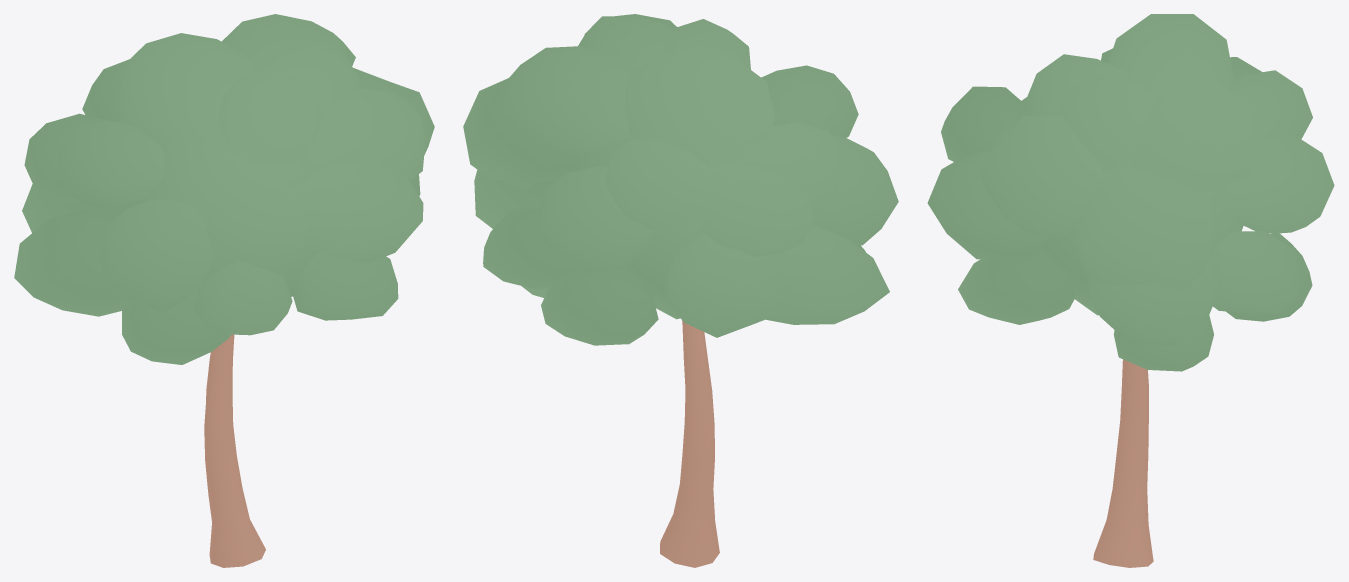
Rendered from Blender_Tanoak_2.glb.
3 renders of one model, left to right at view 1: azimuth 30°, elevation 25°; view 2: azimuth 150°, elevation 25°; view 3: azimuth 270°, elevation 25°, orthographic. The views are drawn at different scales.
Visible parts, largest first — view 1: Blender_Tanoak_2; view 2: Blender_Tanoak_2; view 3: Blender_Tanoak_2.
Part boxes in pixels (x1,y1,x2,y2): Blender_Tanoak_2: (14,14,434,567); Blender_Tanoak_2: (463,14,898,567); Blender_Tanoak_2: (927,14,1334,567).
Size of the model in its own units: 13.64 by 16.75 by 11.75.
